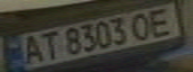0: (93, 18, 115, 48)
3: (109, 15, 133, 45), (78, 21, 100, 53)
8: (60, 25, 84, 56)
A: (15, 33, 48, 65)
E: (142, 6, 181, 37)
O: (124, 10, 160, 40)
T: (36, 29, 63, 61)
